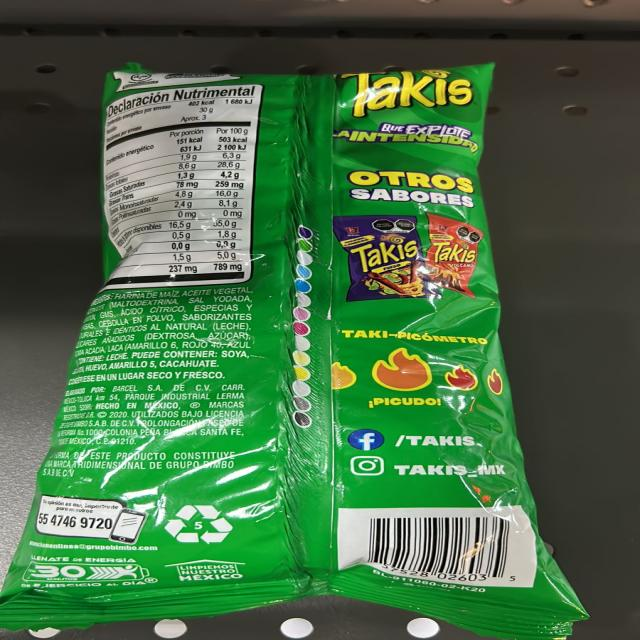productoAtras: (104, 84, 494, 618)
